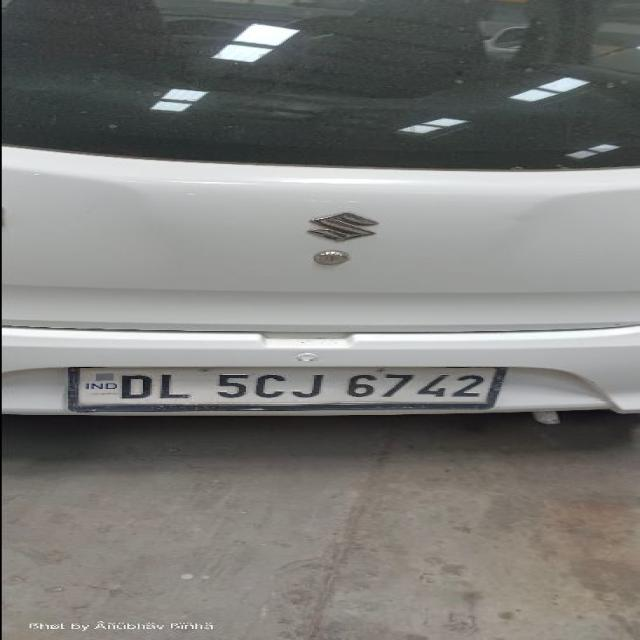license_plate: (65, 366, 508, 414)
